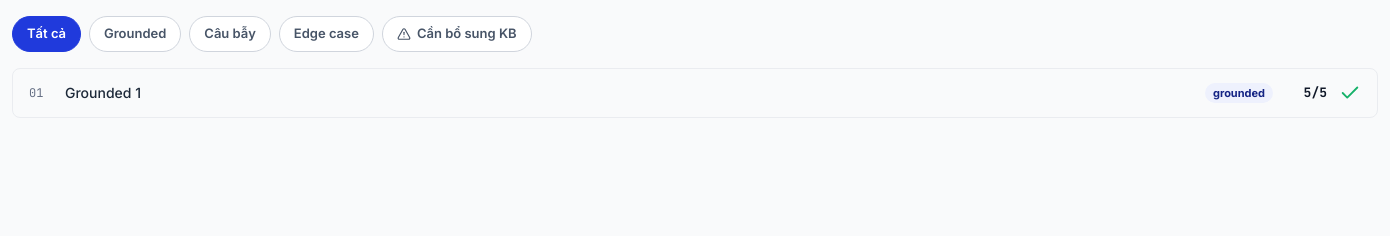
EvalTestList › lý do chỉ hiện sau khi bấm mở dòng
This screenshot has width=1390, height=236.
Expected: the text "đúng KB" is not shown
Click the button "01 Grounded 1 grounded 5/5": (103, 92) [13,69,1377,117]
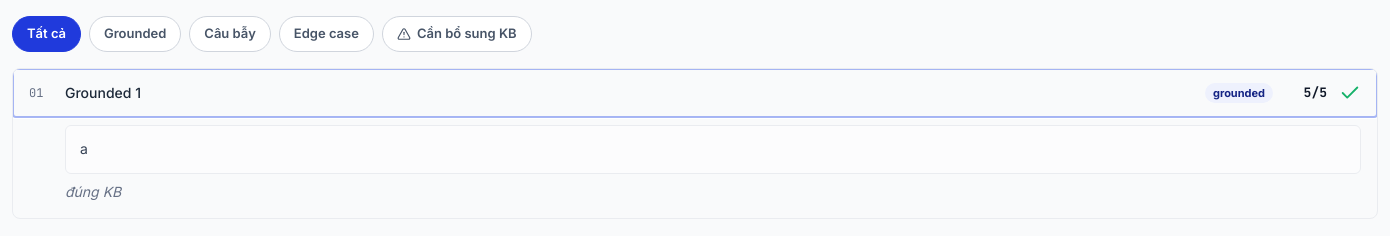
Result: the text "đúng KB" is shown at [65,183,121,200]
